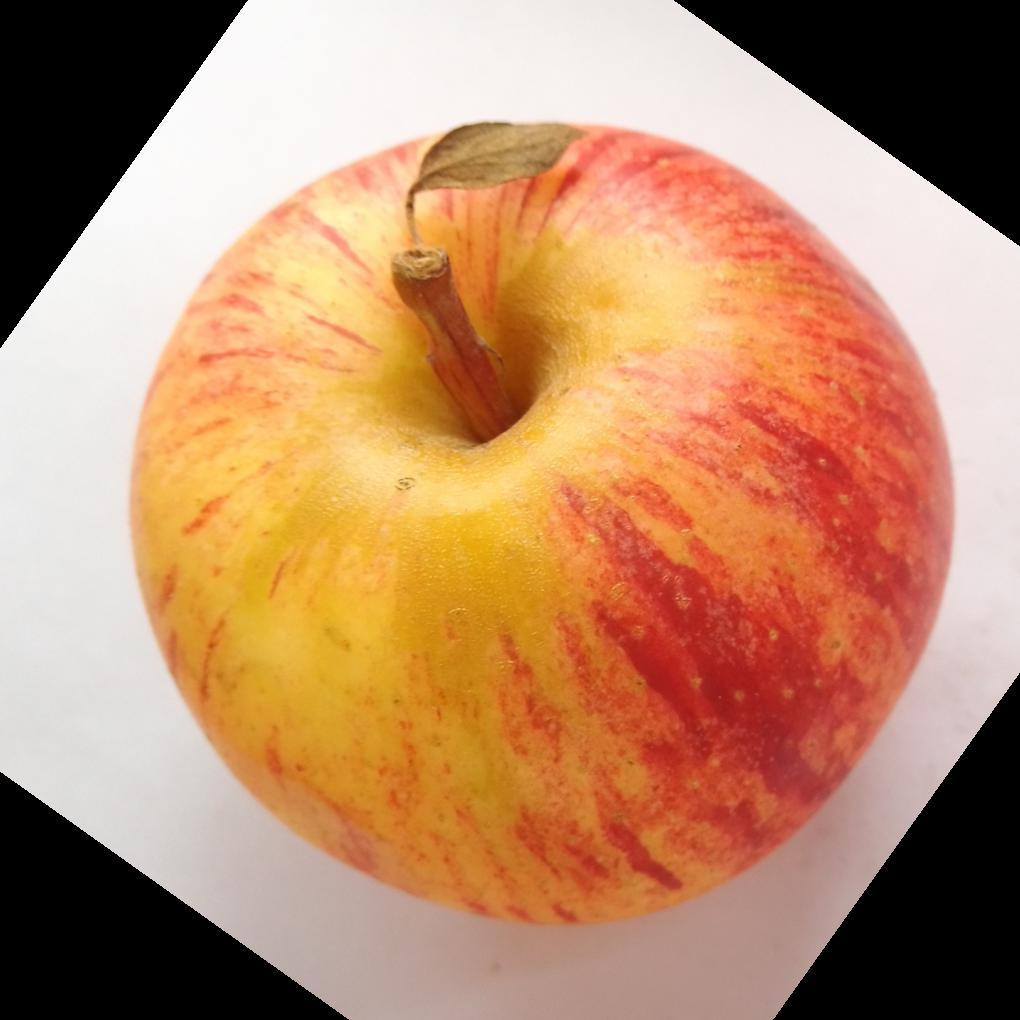FreshGuava: (125, 121, 956, 932)
